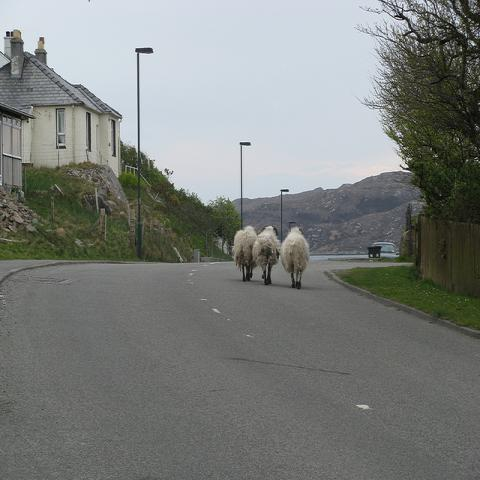car: (373, 242, 397, 254)
